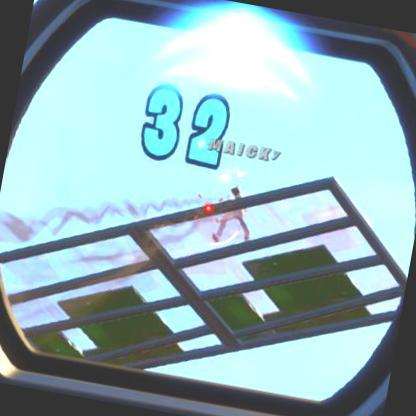person: (214, 182, 256, 242)
